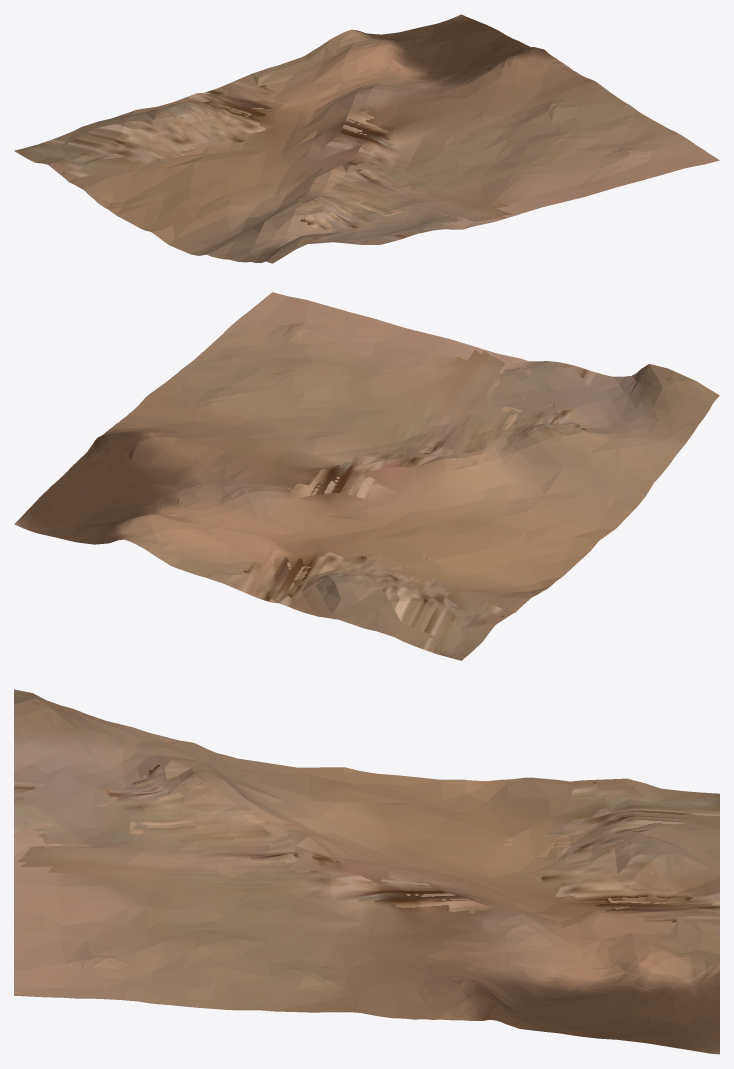
3 views of the same model, one above another, from view 1: azimuth 30°, elevation 25°; view 2: azimuth 150°, elevation 25°; view 3: azimuth 270°, elevation 25° (orthographic). The views are drawn at different scales.
Bounding box in the file's own units: 1.04 × 0.2023 × 1.04.
2 materials, 2 textured.
